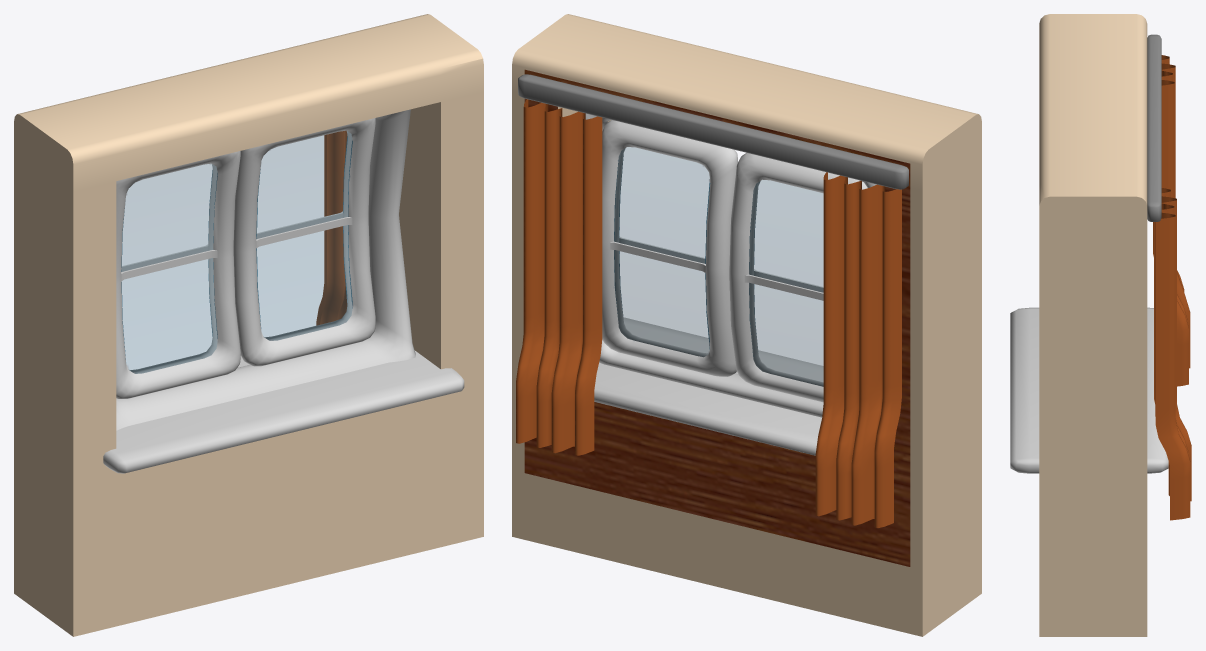
Rendered from Window_Wall_L.glb.
3 renders of one model, left to right at view 1: azimuth 30°, elevation 25°; view 2: azimuth 150°, elevation 25°; view 3: azimuth 270°, elevation 25°, orthographic. The views are drawn at different scales.
Visible parts, largest first — view 1: Cube.019, Torus.006, Torus.005, Torus.004, Cube.008, Grid.002; view 2: Cube.019, Cube.007, Torus.006, Grid.002, Grid.003, Torus.005, Cube.008, Cube.006, Torus.004; view 3: Cube.019, Grid.002, Cube.008, Grid.003, Cube.006.
Boxes of the visible parts, x1=… form: Cube.019: x1=14, y1=14, x2=483, y2=636; Torus.006: x1=233, y1=118, x2=375, y2=366; Torus.005: x1=116, y1=151, x2=240, y2=398; Torus.004: x1=116, y1=109, x2=415, y2=430; Cube.008: x1=103, y1=350, x2=464, y2=473; Grid.002: x1=316, y1=130, x2=347, y2=325; Cube.019: x1=512, y1=14, x2=981, y2=636; Cube.007: x1=524, y1=69, x2=910, y2=566; Torus.006: x1=602, y1=120, x2=737, y2=376; Grid.002: x1=516, y1=99, x2=602, y2=455; Grid.003: x1=815, y1=172, x2=901, y2=527; Torus.005: x1=729, y1=152, x2=867, y2=402; Cube.008: x1=594, y1=317, x2=823, y2=455; Cube.006: x1=518, y1=74, x2=908, y2=189; Torus.004: x1=585, y1=113, x2=876, y2=417; Cube.019: x1=1039, y1=14, x2=1147, y2=636; Grid.002: x1=1154, y1=188, x2=1191, y2=520; Cube.008: x1=1010, y1=307, x2=1168, y2=473; Grid.003: x1=1153, y1=55, x2=1190, y2=386; Cube.006: x1=1147, y1=34, x2=1161, y2=221.
Bounding box in the file's own units: 2 × 2.25 × 0.8376.
4 materials, 4 textured.
